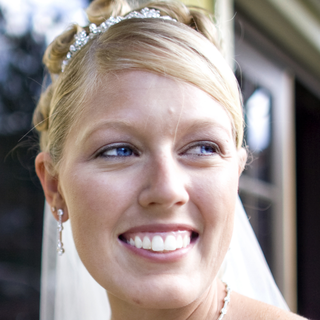eye: (169, 132, 228, 169), (86, 135, 150, 169)
